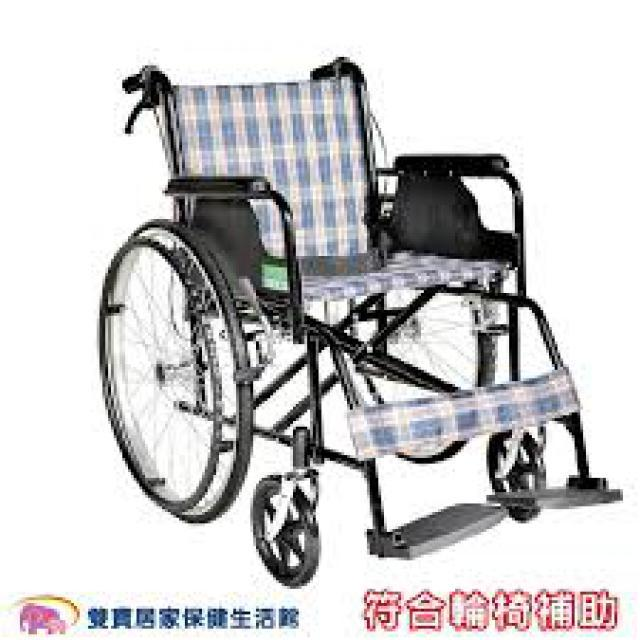wheelchair: (91, 42, 629, 586)
